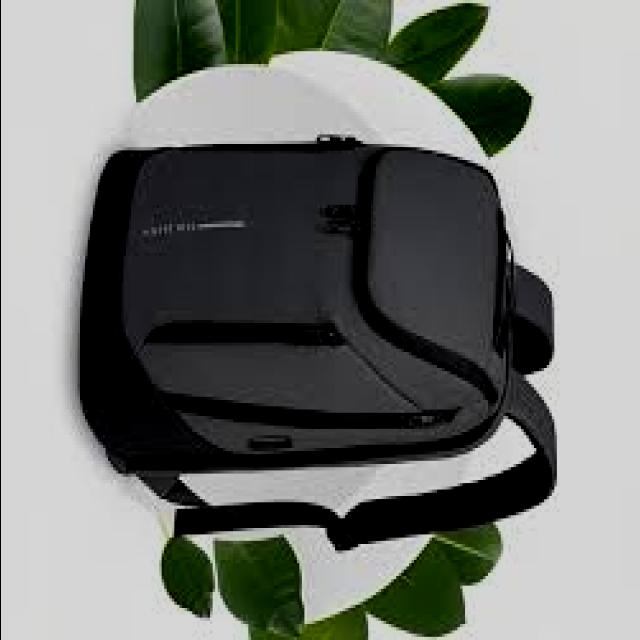backpack: (80, 133, 560, 552)
